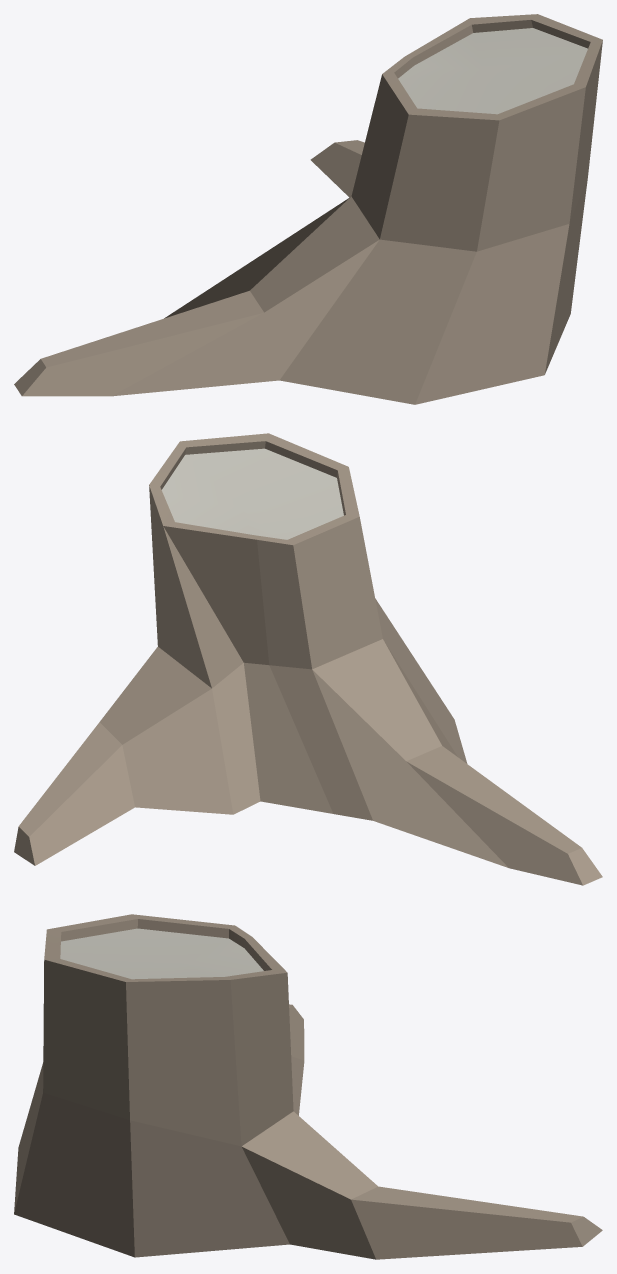
File: ER_Asset_TreeStump.fbx
The picture shows the model from 3 angles, top to bottom: view 1: azimuth 30°, elevation 25°; view 2: azimuth 150°, elevation 25°; view 3: azimuth 270°, elevation 25°; orthographic projection. The views are drawn at different scales.
Parts seen in each view (by area): view 1: pCylinder70; view 2: pCylinder70; view 3: pCylinder70.
Part boxes in pixels (x1,y1,x2,y2): pCylinder70: (14,14,602,404); pCylinder70: (14,433,602,885); pCylinder70: (14,914,602,1259).
Size of the model in its own units: 1.97 by 1.04 by 1.83.
